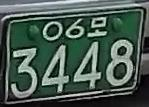0: (41, 21, 63, 42)
3: (11, 46, 39, 98)
4: (39, 42, 71, 93), (74, 41, 103, 89)
6: (65, 18, 86, 40)
8: (104, 37, 134, 86)
모: (86, 16, 108, 39)
